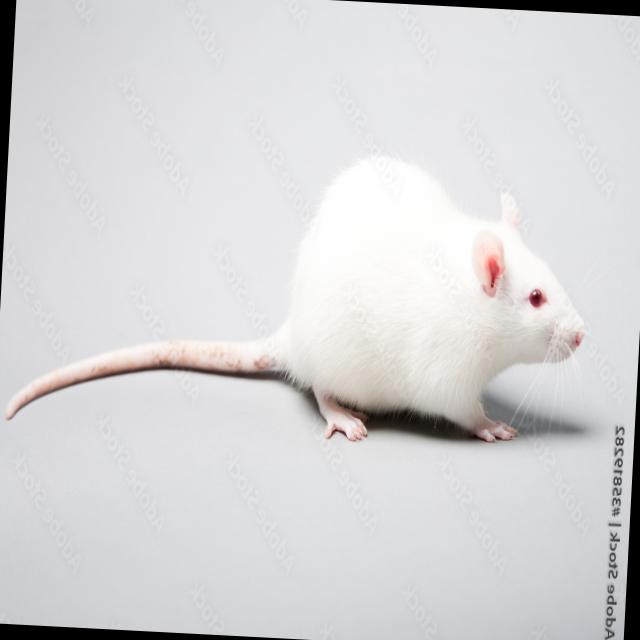rodents: (252, 144, 606, 503)
